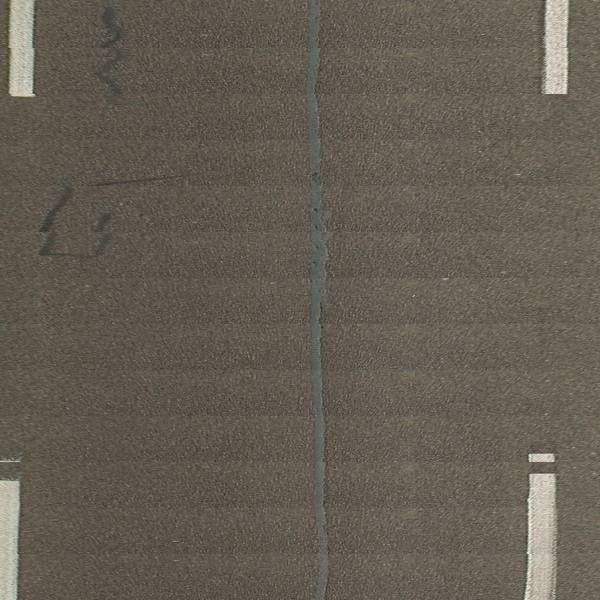road_damage: (299, 1, 329, 600), (35, 180, 110, 260), (91, 1, 131, 104)
